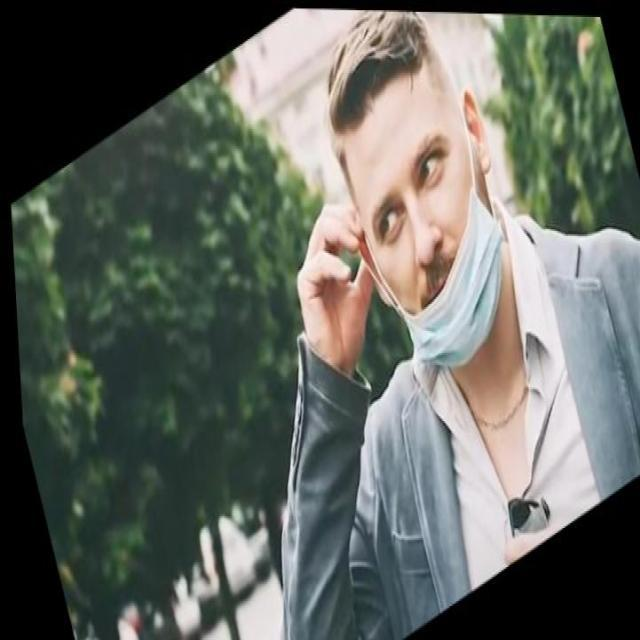hairnet: (338, 94, 516, 408)
